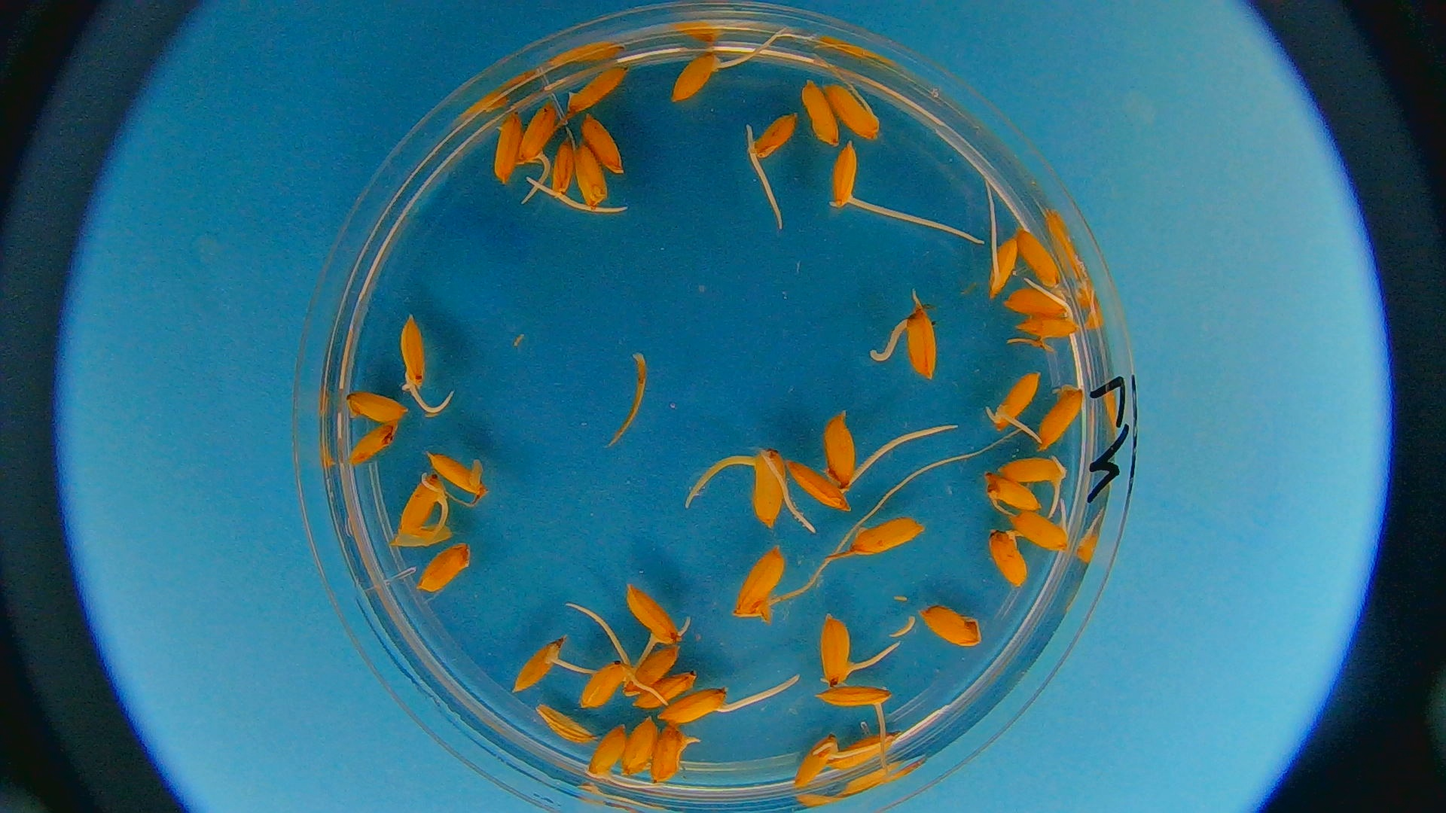no: (849, 514, 925, 561), (1036, 384, 1086, 449), (566, 62, 627, 115), (918, 602, 981, 650), (799, 79, 843, 147), (789, 463, 849, 512), (416, 544, 474, 594), (1014, 229, 1063, 287), (343, 418, 399, 467), (582, 110, 624, 174), (986, 531, 1030, 587), (633, 670, 697, 708), (834, 735, 894, 775), (493, 107, 524, 184), (347, 389, 407, 427), (574, 140, 607, 209), (624, 716, 657, 775)
yes: (731, 545, 789, 624), (399, 469, 447, 539), (508, 638, 565, 695), (896, 305, 939, 380), (824, 83, 878, 142), (623, 642, 681, 696), (987, 373, 1040, 432), (821, 411, 859, 491), (794, 728, 843, 790), (584, 718, 631, 781), (627, 583, 676, 643), (670, 50, 724, 104), (749, 449, 785, 529), (1018, 295, 1086, 337), (660, 684, 730, 724), (1010, 508, 1072, 553), (430, 452, 490, 498), (820, 615, 859, 684), (749, 108, 797, 163), (398, 313, 429, 394), (577, 662, 633, 706), (986, 230, 1021, 299), (984, 472, 1042, 513), (522, 99, 557, 162), (1000, 455, 1066, 486), (816, 683, 893, 709), (653, 723, 687, 781), (831, 142, 859, 212), (1005, 286, 1070, 314), (549, 142, 573, 202)
